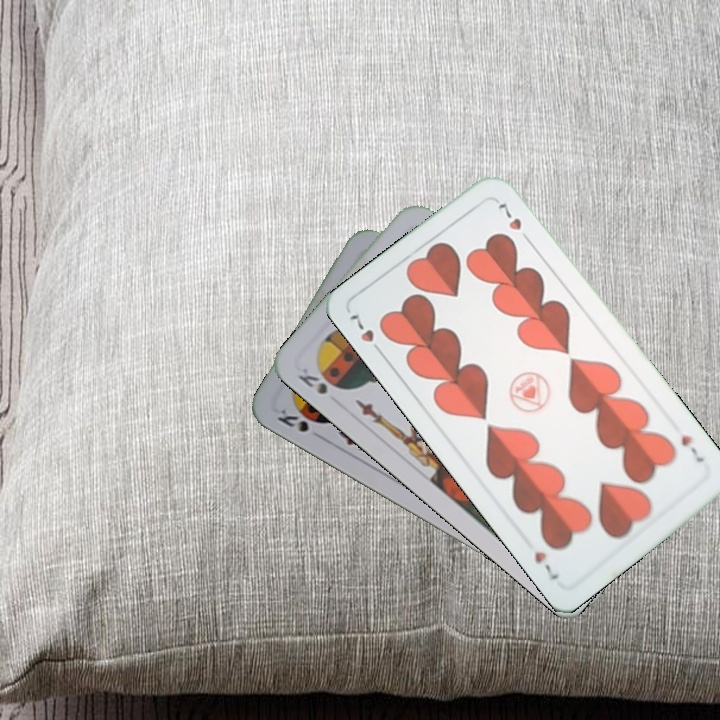H7: (345, 310, 387, 359), (677, 431, 707, 466)
SK: (293, 363, 330, 397), (273, 404, 311, 435)
